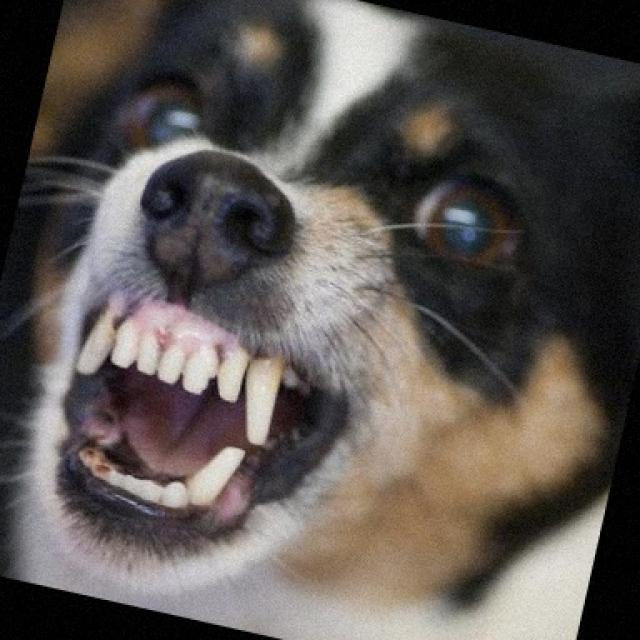angry: (49, 32, 546, 640)
